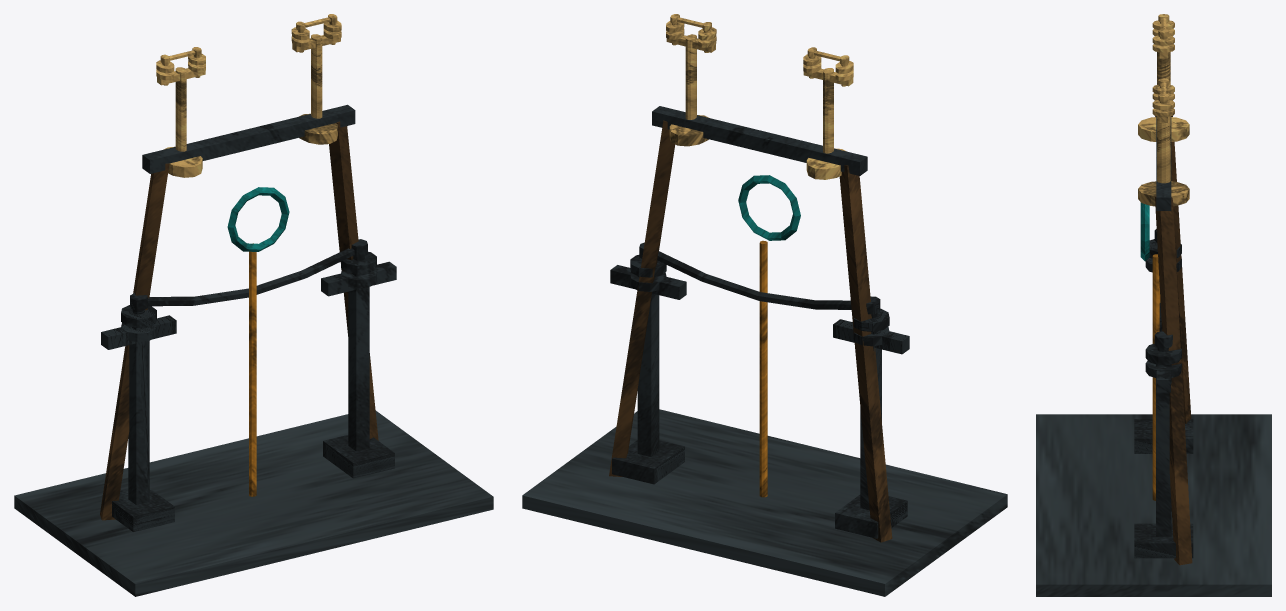
Rendered from off-map-current-receiver.glb.
3 views of the same model, side by side, from view 1: azimuth 30°, elevation 25°; view 2: azimuth 150°, elevation 25°; view 3: azimuth 270°, elevation 25° (orthographic). The views are drawn at different scales.
Parts seen in each view (by area): view 1: off-map-current-receiver; view 2: off-map-current-receiver; view 3: off-map-current-receiver.
Part boxes in pixels (bbox=[...]): off-map-current-receiver: bbox=[14, 14, 493, 596]; off-map-current-receiver: bbox=[522, 14, 1007, 596]; off-map-current-receiver: bbox=[1036, 14, 1271, 596].
Size of the model in its own units: 8.2 by 10.25 by 4.8.
1 material, 1 textured.
